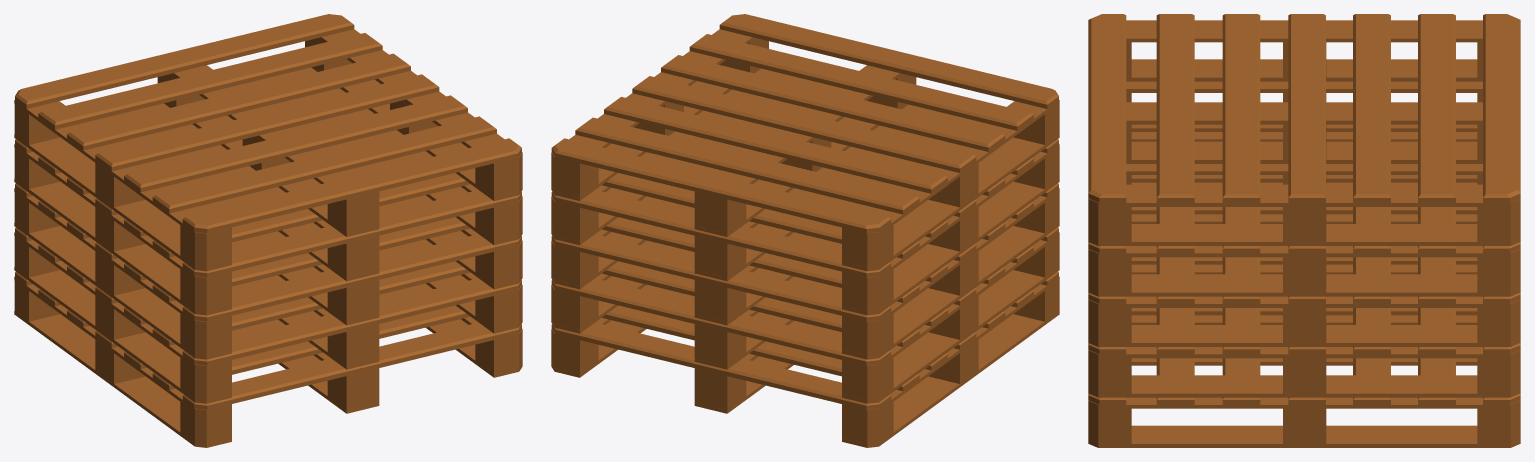
File: Prop_Pallets.fbx
3 renders of one model, left to right at view 1: azimuth 30°, elevation 25°; view 2: azimuth 150°, elevation 25°; view 3: azimuth 270°, elevation 25°, orthographic. The views are drawn at different scales.
Visible parts, largest first — view 1: Prop_Pallets; view 2: Prop_Pallets; view 3: Prop_Pallets.
Boxes of the visible parts, x1=… form: Prop_Pallets: x1=14, y1=14, x2=522, y2=447; Prop_Pallets: x1=551, y1=14, x2=1059, y2=447; Prop_Pallets: x1=1088, y1=14, x2=1520, y2=447.
Size of the model in its own units: 177 by 177 by 114.
